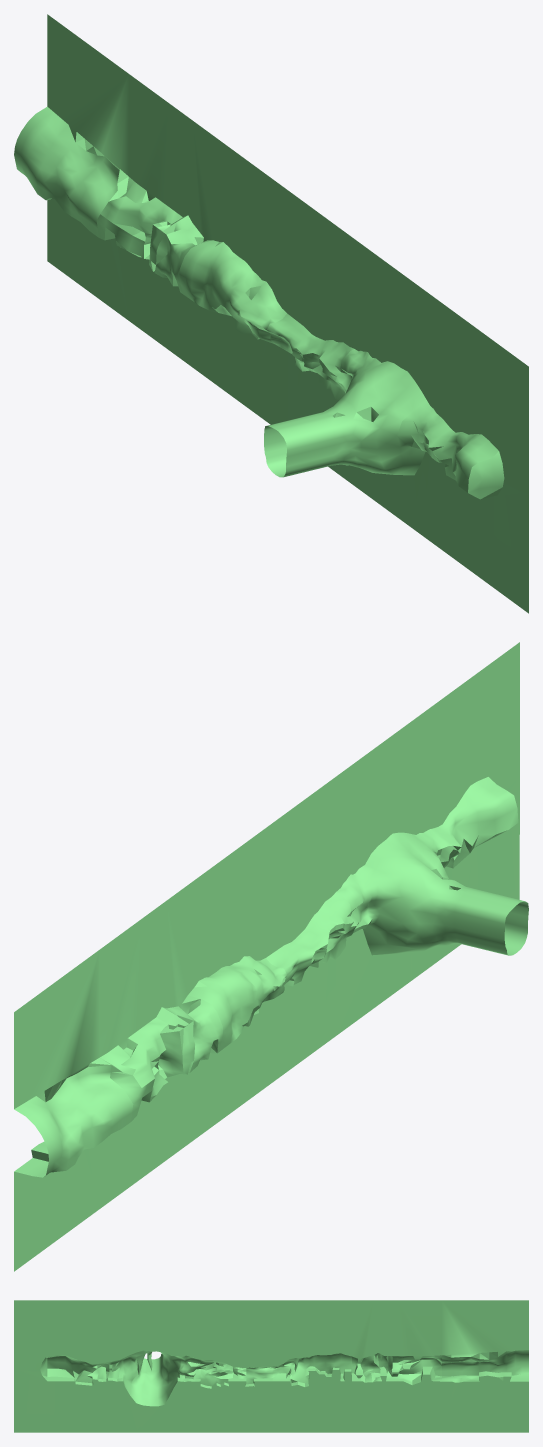
The picture shows the model from 3 angles, top to bottom: view 1: azimuth 30°, elevation 25°; view 2: azimuth 150°, elevation 25°; view 3: azimuth 270°, elevation 25°; orthographic projection. The views are drawn at different scales.
Visible parts, largest first — view 1: part 1, part 2, part 6, part 5, part 4, part 3; view 2: part 2, part 5, part 6, part 1, part 4, part 3; view 3: part 1, part 5, part 6, part 4, part 2, part 3.
Part boxes in pixels (bbox=[...]): part 1: bbox=[397, 292, 528, 613]; part 2: bbox=[264, 239, 426, 538]; part 6: bbox=[14, 14, 128, 320]; part 5: bbox=[96, 74, 212, 381]; part 4: bbox=[179, 135, 287, 424]; part 3: bbox=[267, 190, 354, 485]; part 2: bbox=[336, 721, 528, 1035]; part 5: bbox=[99, 885, 222, 1208]; part 6: bbox=[14, 950, 133, 1271]; part 1: bbox=[412, 642, 519, 979]; part 4: bbox=[187, 828, 286, 1144]; part 3: bbox=[265, 777, 356, 1087]; part 1: bbox=[14, 1300, 123, 1432]; part 5: bbox=[352, 1300, 441, 1432]; part 6: bbox=[442, 1300, 528, 1432]; part 4: bbox=[272, 1300, 352, 1432]; part 2: bbox=[123, 1300, 200, 1432]; part 3: bbox=[200, 1300, 272, 1432].
Size of the model in its own units: 2020 by 3689 by 13031.
